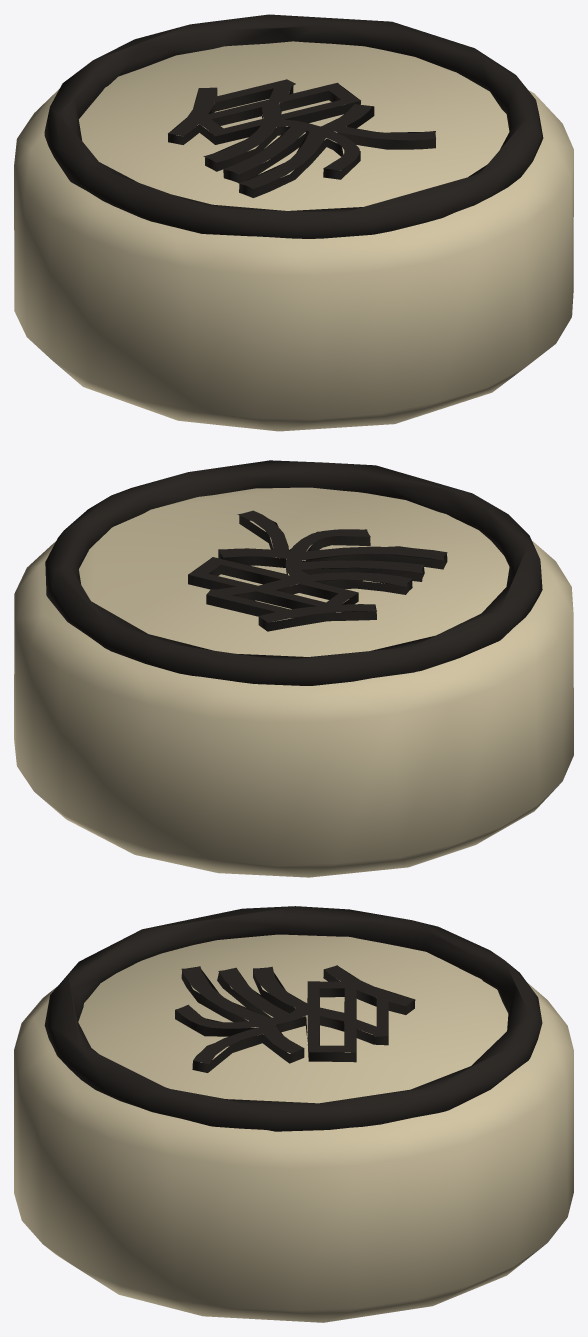
File: quan_den_tuong_voi.glb
3 views of the same model, one above another, from view 1: azimuth 30°, elevation 25°; view 2: azimuth 150°, elevation 25°; view 3: azimuth 270°, elevation 25° (orthographic).
Parts seen in each view (by area): view 1: quan_den_tuong_voi; view 2: quan_den_tuong_voi; view 3: quan_den_tuong_voi.
Part boxes in pixels (box(x1,y1,x2,y2)): quan_den_tuong_voi: box(14, 14, 573, 431); quan_den_tuong_voi: box(14, 460, 573, 877); quan_den_tuong_voi: box(14, 906, 573, 1322).
Size of the model in its own units: 0.0367 by 0.0153 by 0.0366.
